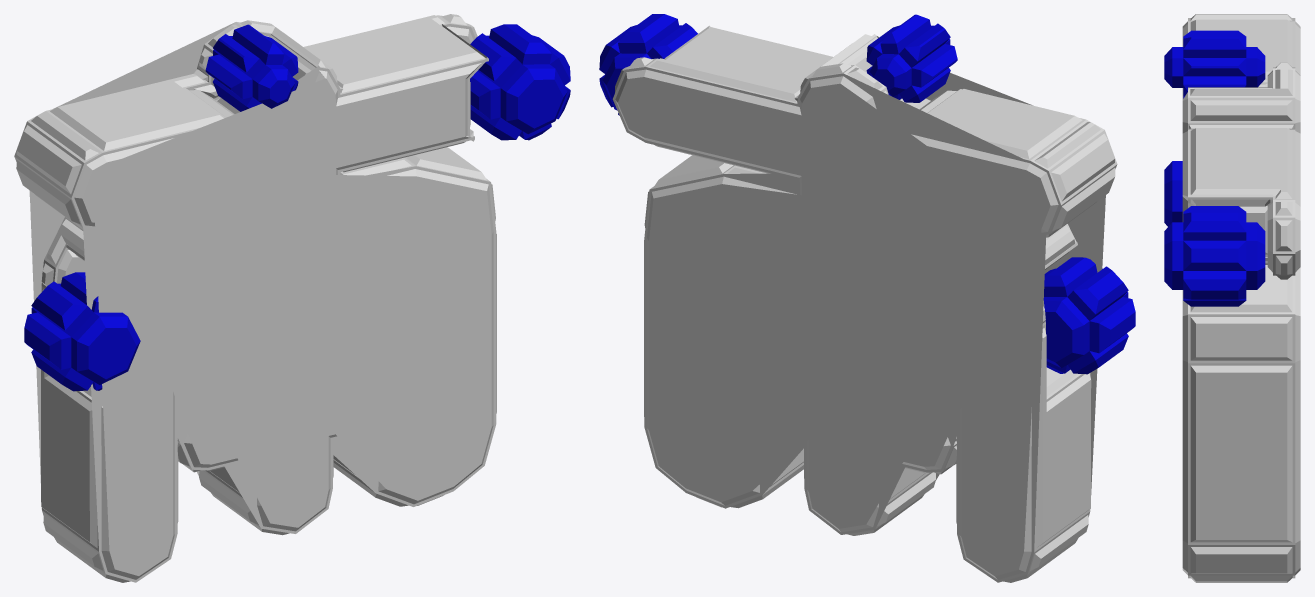
The model's file is Ch_China_南_01.fbx.
3 renders of one model, left to right at view 1: azimuth 30°, elevation 25°; view 2: azimuth 150°, elevation 25°; view 3: azimuth 270°, elevation 25°, orthographic. The views are drawn at different scales.
Visible parts, largest first — view 1: sphere1; view 2: sphere1; view 3: sphere1.
Part boxes in pixels (x1=…): sphere1: x1=14, y1=14, x2=570, y2=582; sphere1: x1=599, y1=14, x2=1135, y2=582; sphere1: x1=1164, y1=14, x2=1300, y2=582.
Size of the model in its own units: 1.05 by 0.9752 by 0.2541.
